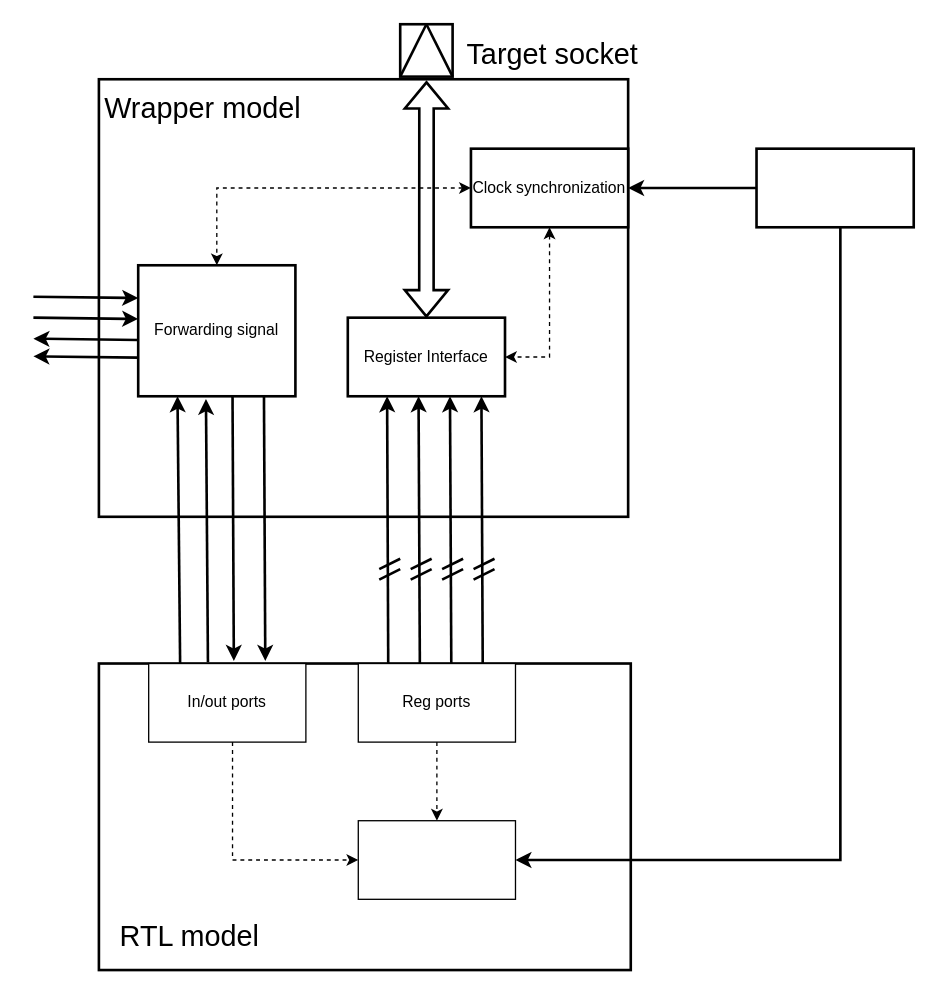
Some shapes in this 937 by 993 pixel diagram are drawn without their labels. Each missing label, with the centre of its shape:
Clock handling: the point at 436,859
System clock: the point at 834,187
